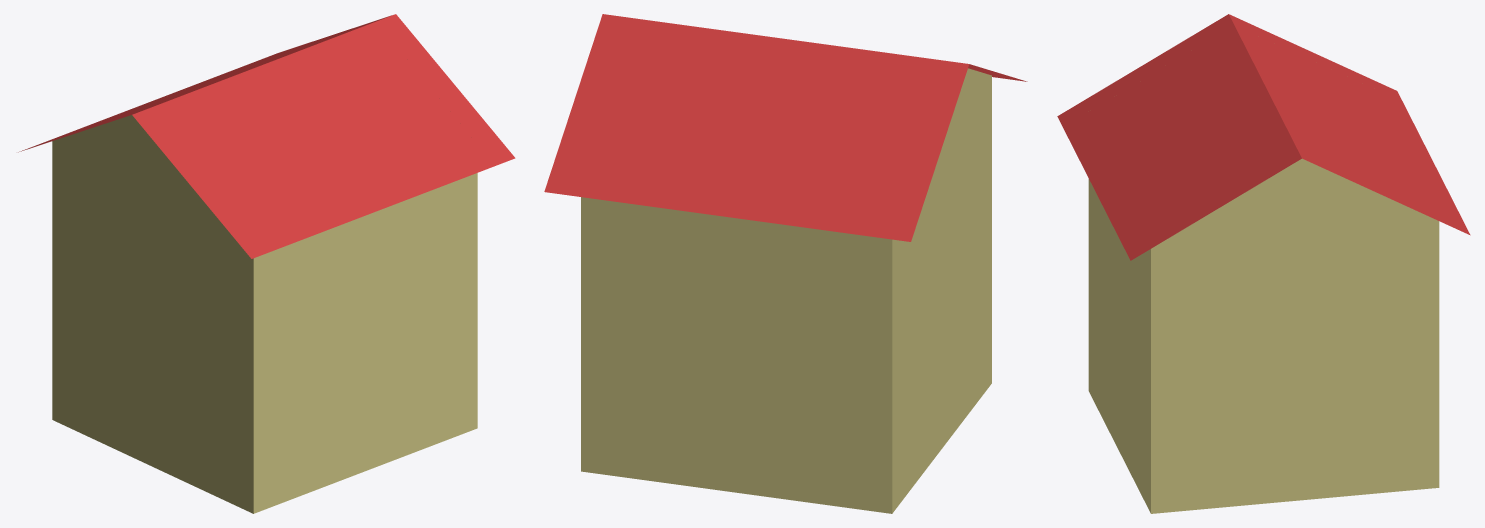
3 views of the same model, side by side, from view 1: azimuth 30°, elevation 25°; view 2: azimuth 150°, elevation 25°; view 3: azimuth 270°, elevation 25° (orthographic). The views are drawn at different scales.
Bounding box in the file's own units: 15.66 × 15.59 × 14.7.
